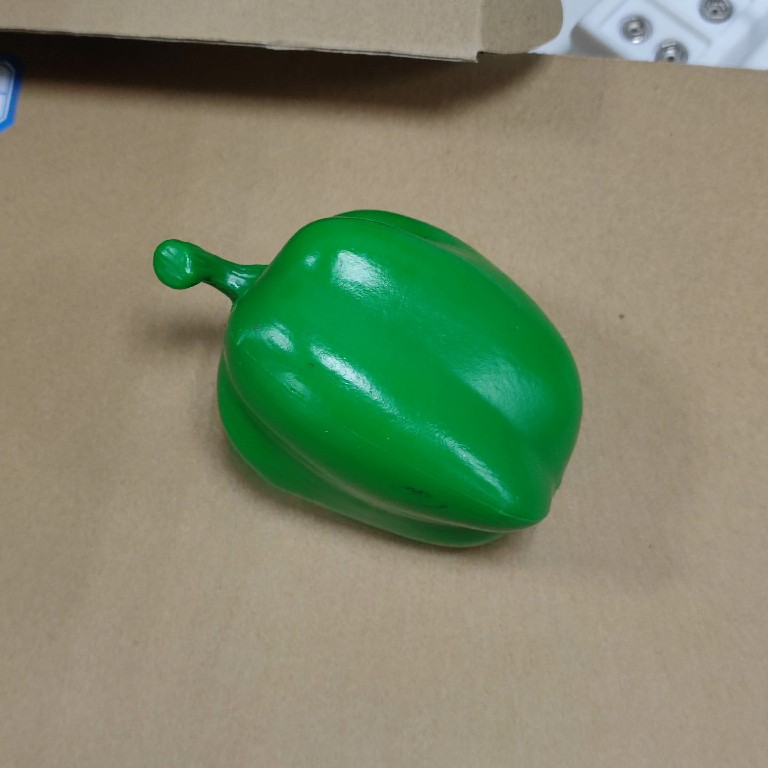fruit_pepper: (147, 203, 587, 555)
